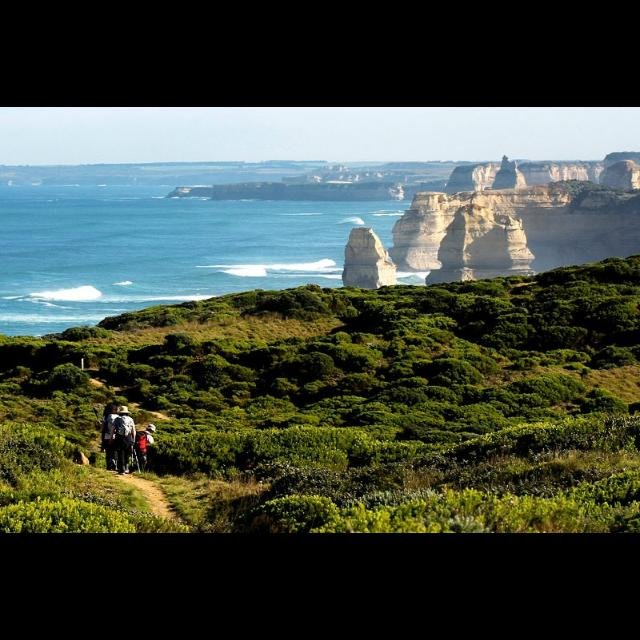head: (106, 403, 118, 415), (120, 408, 130, 418), (148, 425, 156, 435)
person: (110, 404, 138, 476), (100, 402, 124, 472), (135, 424, 159, 482)
